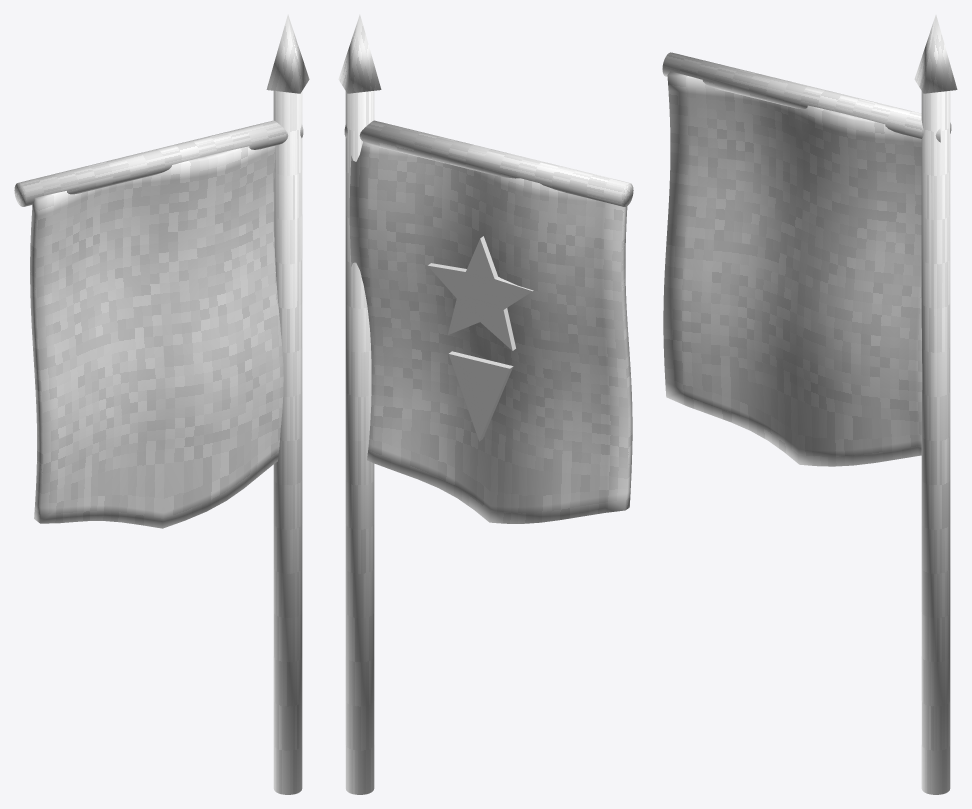
File: red_priest.obj
The picture shows the model from 3 angles, left to right: view 1: azimuth 30°, elevation 25°; view 2: azimuth 150°, elevation 25°; view 3: azimuth 330°, elevation 25°; orthographic projection.
Size of the model in its own units: 0.3705 by 0.95 by 0.0587.
